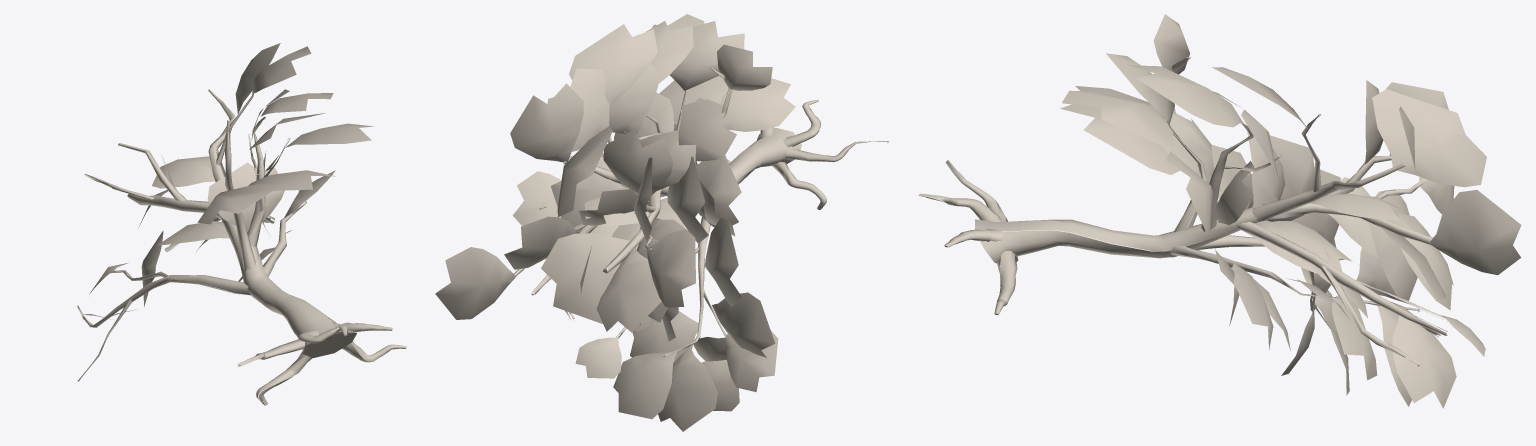
The model's file is tree_2_cand00.glb.
3 views of the same model, side by side, from view 1: azimuth 30°, elevation 25°; view 2: azimuth 150°, elevation 25°; view 3: azimuth 270°, elevation 25° (orthographic). The views are drawn at different scales.
Parts seen in each view (by area): view 1: world; view 2: world; view 3: world.
Part boxes in pixels (box(x1,y1,x2,y2)): world: box(77, 43, 406, 405); world: box(435, 14, 888, 431); world: box(918, 14, 1521, 408).
Bounding box in the file's own units: 1.28 × 1.4 × 1.84.
